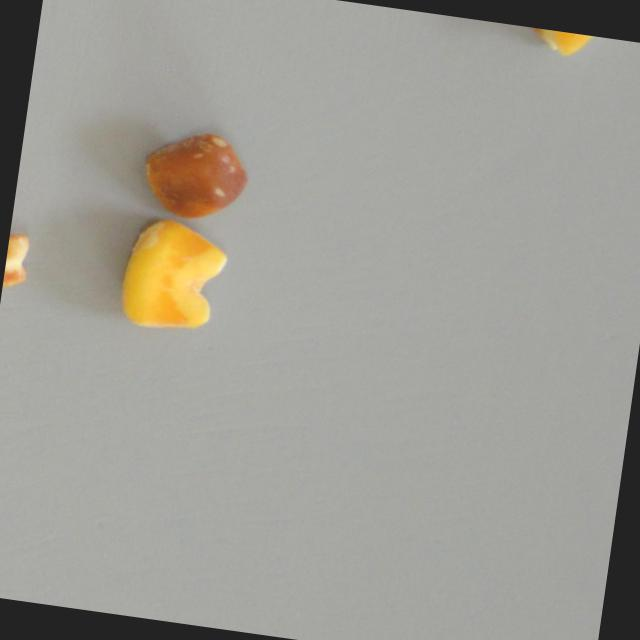dañado: (135, 124, 252, 228), (0, 230, 32, 307)
pelicula: (113, 212, 235, 339), (520, 26, 612, 63)
